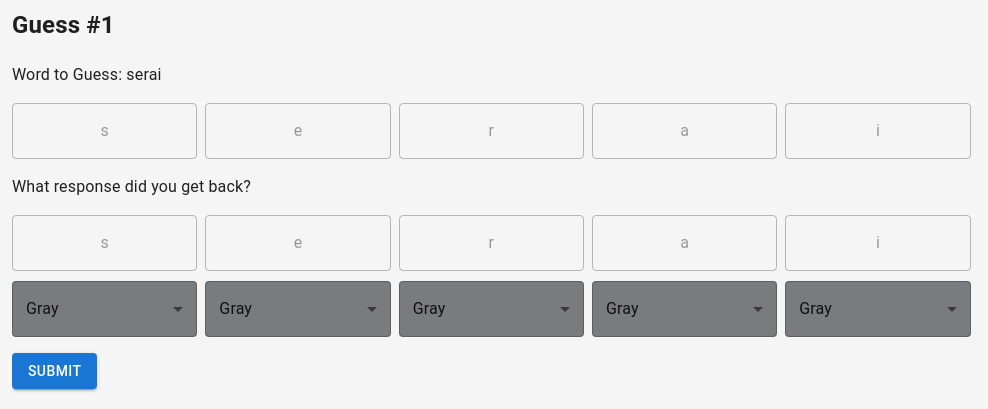
Test case: WordleGuess Component › should show loading spinner inside the button when loading
The image size is (988, 409).
Step 1. Click the button "Submit" → (55,371), box [12,353,97,389]
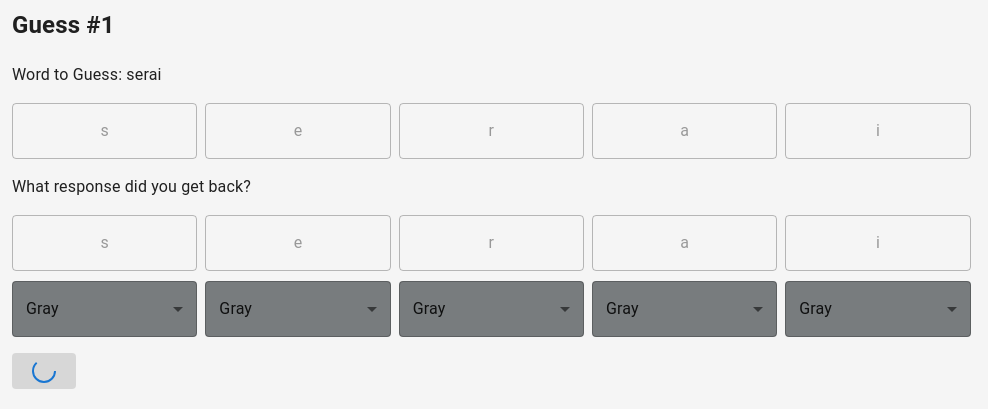
Now the progress indicator is shown, box [32,359,56,383]
